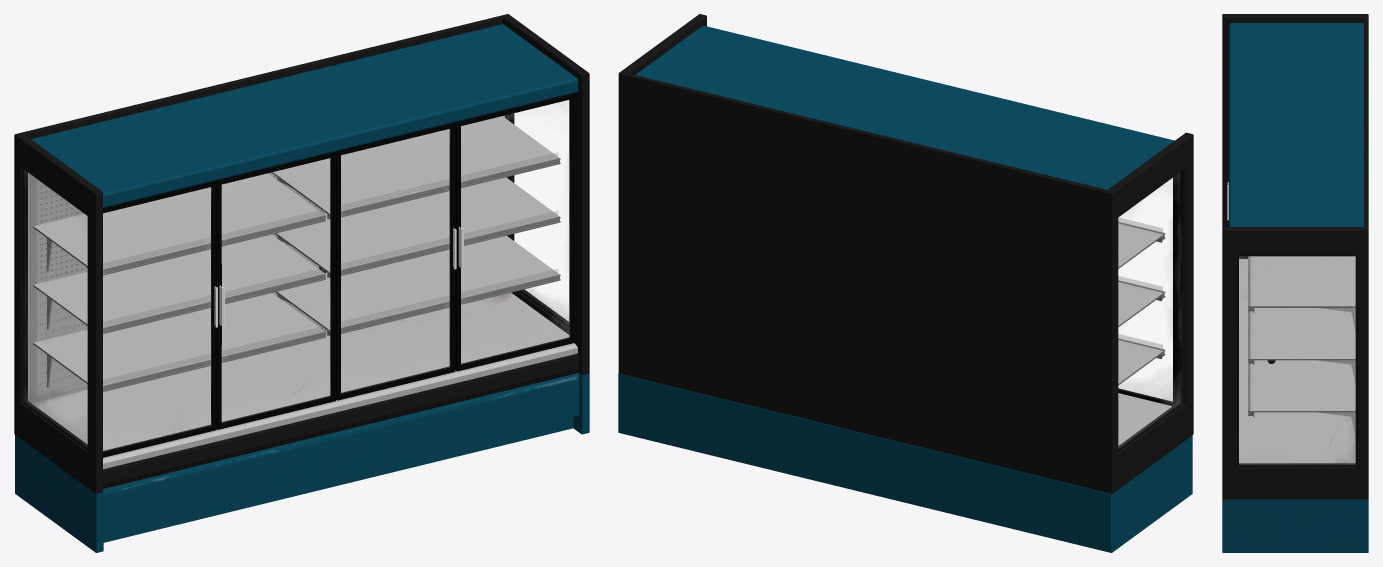
The picture shows the model from 3 angles, left to right: view 1: azimuth 30°, elevation 25°; view 2: azimuth 150°, elevation 25°; view 3: azimuth 270°, elevation 25°; orthographic projection. The views are drawn at different scales.
Visible parts, largest first — view 1: tall.003, socle.001, etagere, etagere.001, etagere.002, cadrebd.003, cadrebd.001, cadrebd.002, cadrebd, vitremini.002, vitremini, vitremini.001 (+6 smaller); view 2: tall.003, socle.001, glass.00, cadrebd, joint001, etagere.001, etagere.002, etagere, PORTE G01; view 3: tall.003, socle.001, etagere, etagere.001, etagere.002, joint001, glass.001.
Boxes of the visible parts, x1,y1,x2,y2 form: tall.003: (14,14,589,493); socle.001: (15,372,589,552); etagere: (33,116,560,275); etagere.001: (33,177,560,333); etagere.002: (33,235,560,391); cadrebd.003: (455,93,574,371); cadrebd.001: (336,122,455,400); cadrebd.002: (216,151,335,429); cadrebd: (103,180,216,457); vitremini.002: (103,269,557,384); vitremini: (103,152,557,268); vitremini.001: (103,211,557,326); tall.003: (618,14,1193,493); socle.001: (618,373,1192,552); glass.00: (1118,171,1182,448); cadrebd: (1118,174,1177,406); joint001: (1118,169,1183,451); etagere.001: (1118,280,1165,327); etagere.002: (1118,338,1165,385); etagere: (1118,222,1165,268); PORTE G01: (1118,219,1172,402); tall.003: (1222,14,1368,499); socle.001: (1222,499,1368,552); etagere: (1248,256,1355,312); etagere.001: (1248,308,1355,364); etagere.002: (1248,360,1355,417); joint001: (1237,255,1357,466); glass.001: (1239,256,1355,464).
Bounding box in the file's own units: 3.11 × 2.16 × 0.8892.
11 materials, 6 textured.
